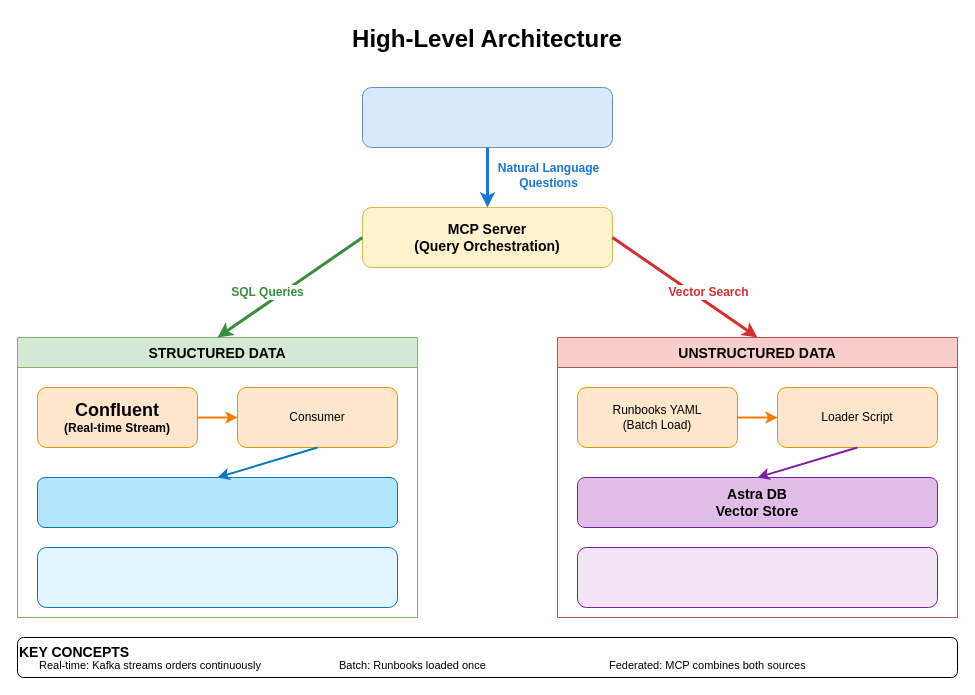
This 975x695 diagram has some shape labels left out. Here are the shapes that lost their labels. From the top down, the centre of each, then its label:
At (487,117): "User / Bob AI".
At (217,502): "watsonx.data Lakehouse (real time + batch data)".
At (217,577): "Iceberg Tables 9 tables, 70 rows (orders, customers, inventory, etc.)".
At (757,577): "Vector Embeddings Runbooks, Playbooks, Incidents (Semantic Search)".
